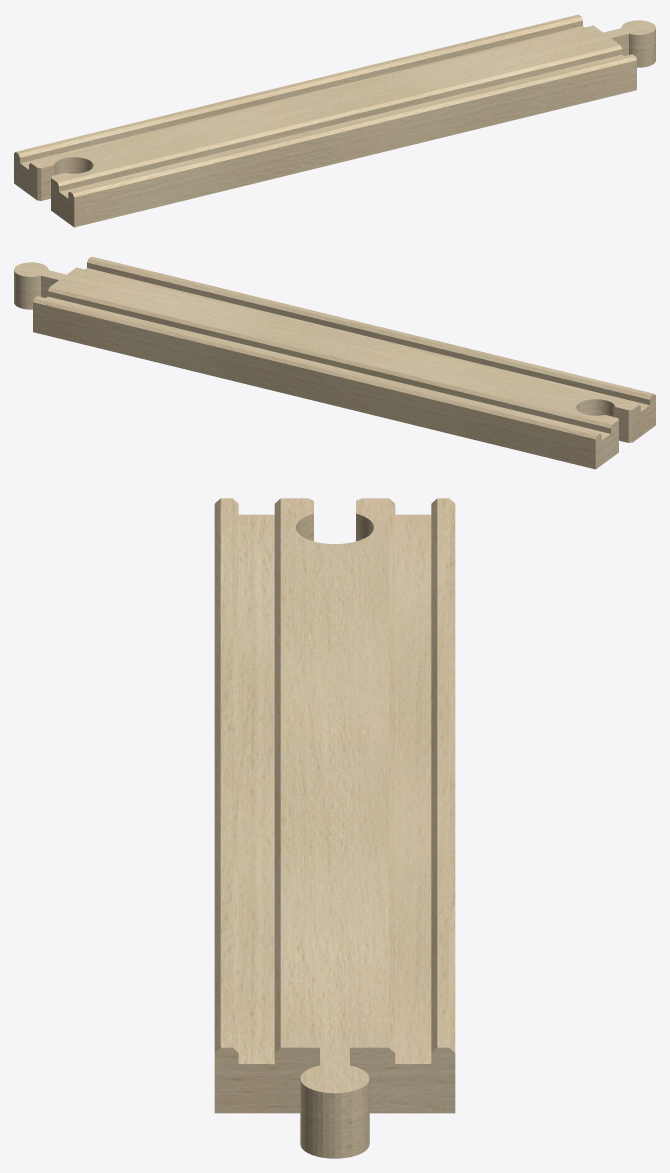
The picture shows the model from 3 angles, top to bottom: view 1: azimuth 30°, elevation 25°; view 2: azimuth 150°, elevation 25°; view 3: azimuth 270°, elevation 25°; orthographic projection. The views are drawn at different scales.
Visible parts, largest first — view 1: SketchUp; view 2: SketchUp; view 3: SketchUp.
Part boxes in pixels (bbox=[...]): SketchUp: bbox=[14, 14, 655, 227]; SketchUp: bbox=[14, 256, 655, 469]; SketchUp: bbox=[214, 498, 455, 1158].
Size of the model in its own units: 9.21 by 1.57 by 0.4724.
